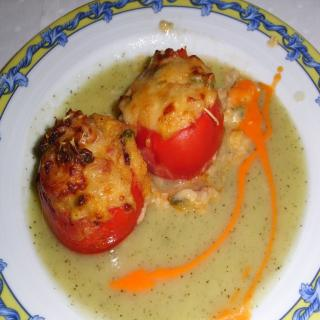tomato: (39, 109, 149, 254), (116, 46, 226, 178)
